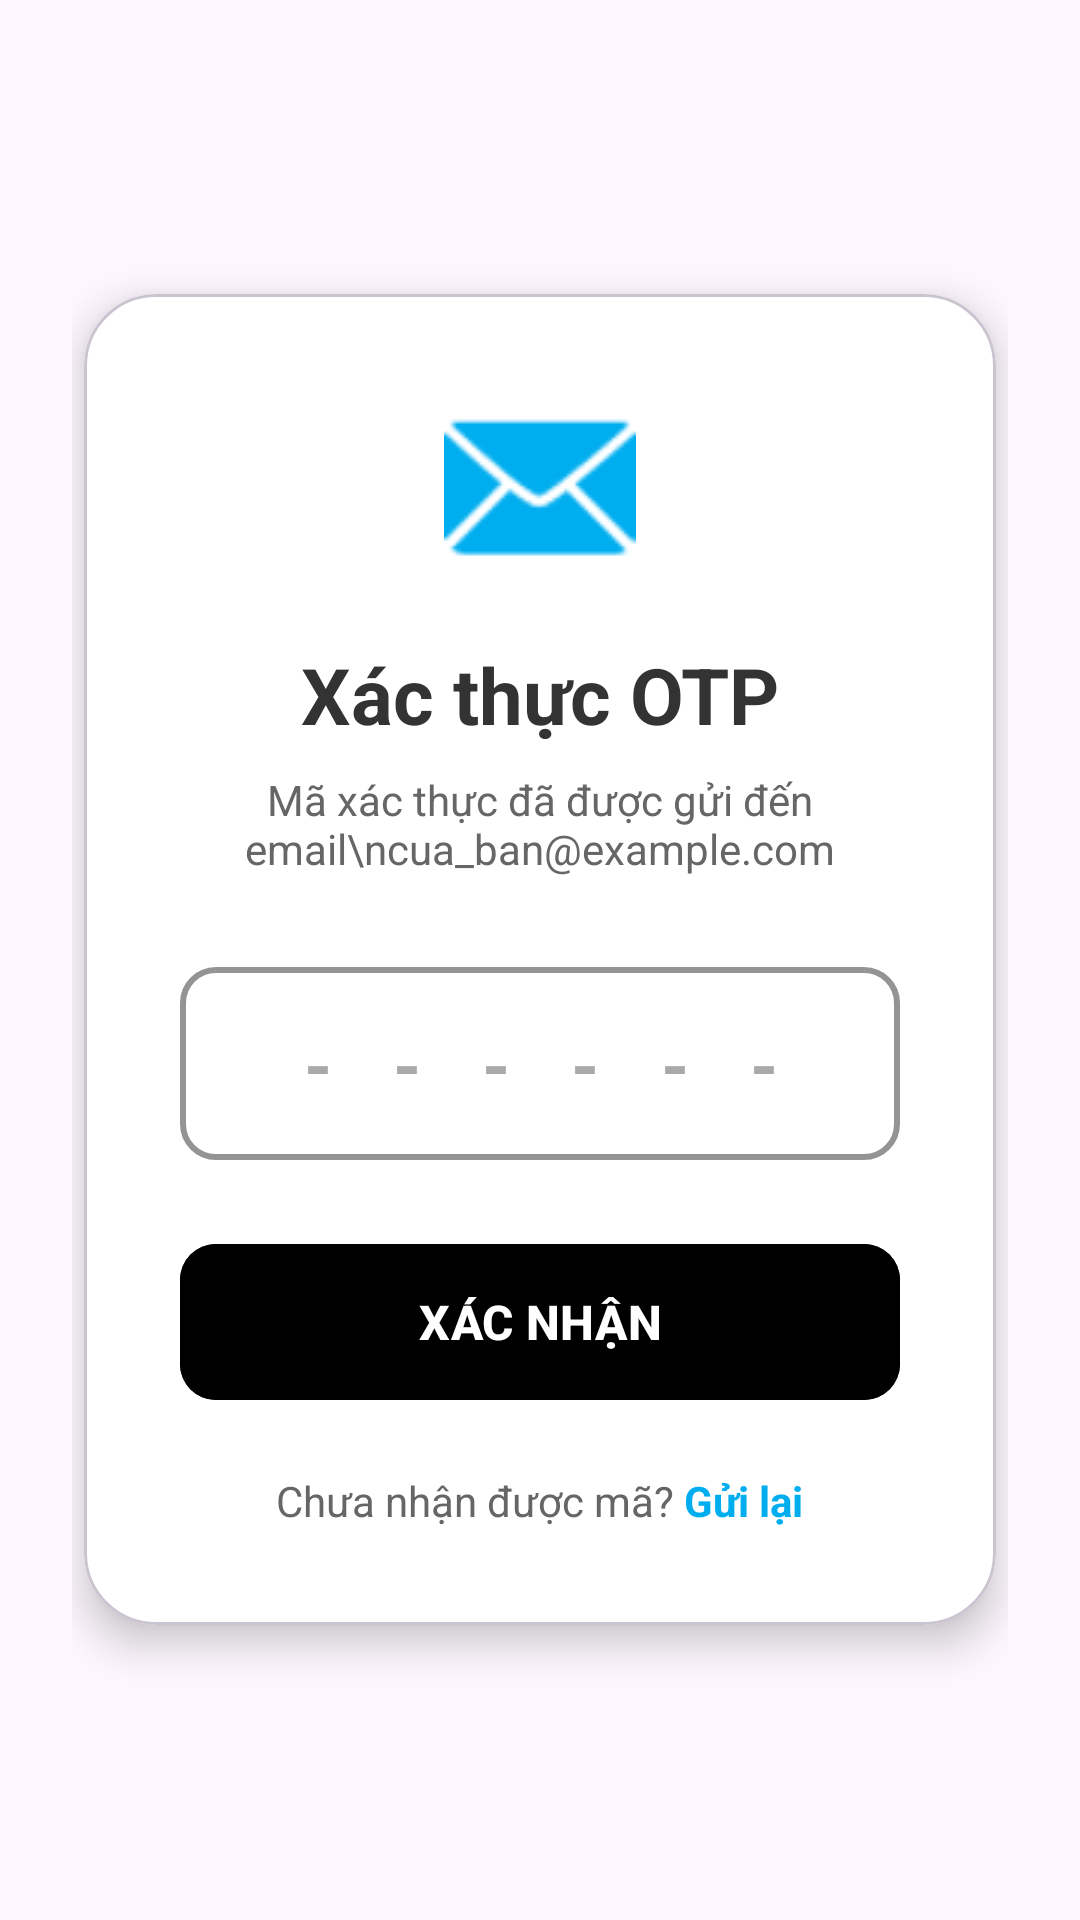

Icon click points for this 1080x1920 phone screenshot, format point (x, y):
email: point (540, 487)
